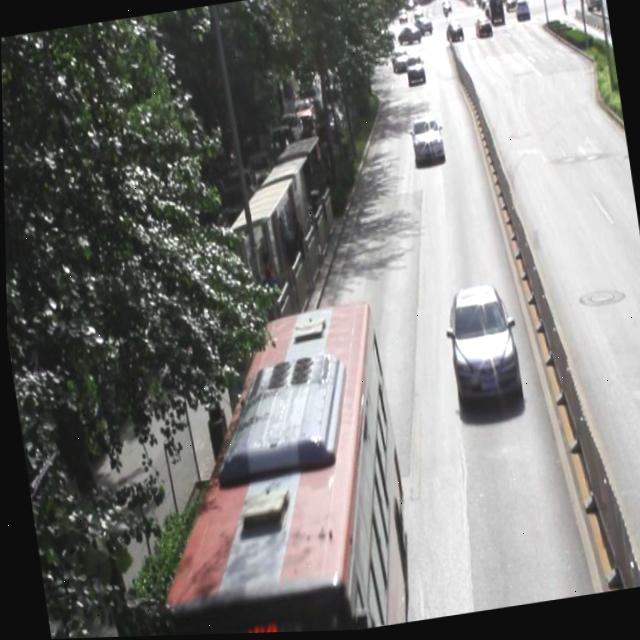car: (439, 283, 518, 402), (405, 116, 443, 165)
van: (118, 298, 414, 637)
